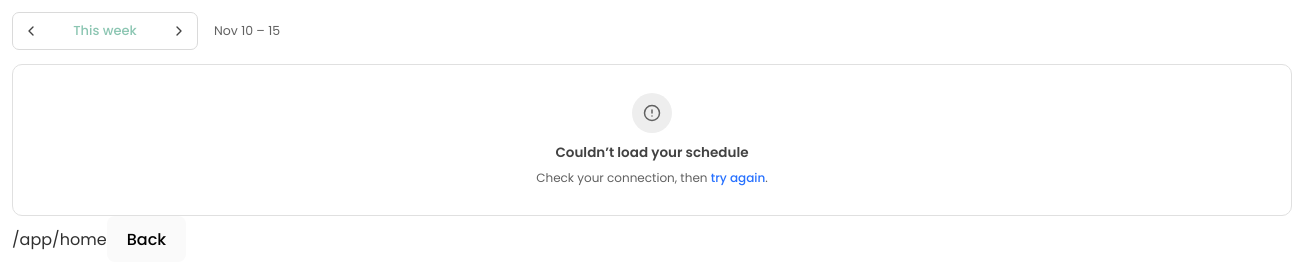
Test: HomeSchedule › fails quietly and loads again on try again
Check: the message shows "Couldn’t load your schedule", box x1=556 y1=143 x2=749 y2=162
Click the button "try again". click: (738, 178)
box: x1=711 y1=169 x2=765 y2=187
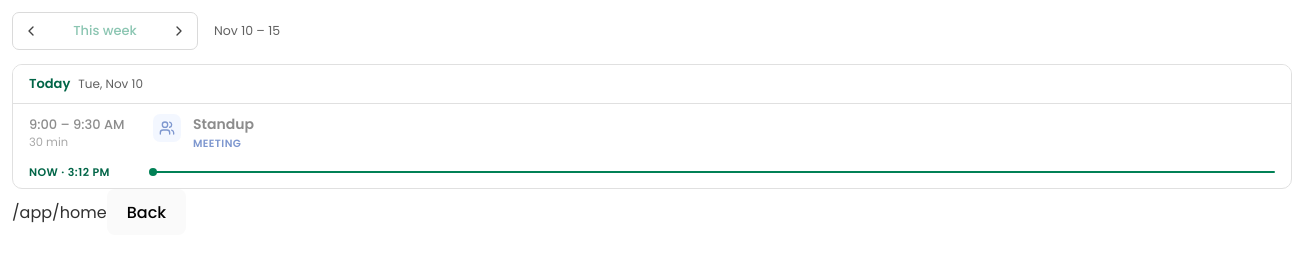
Check: the text "Standup" is shown, box x1=193 y1=115 x2=254 y2=134
